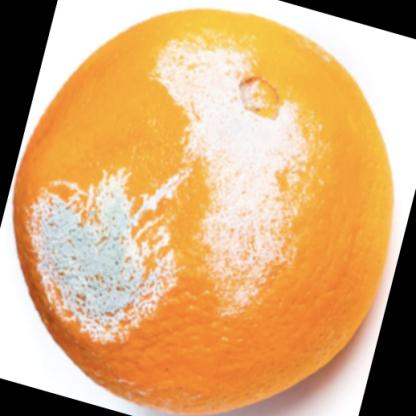rotten: (14, 10, 393, 416)
